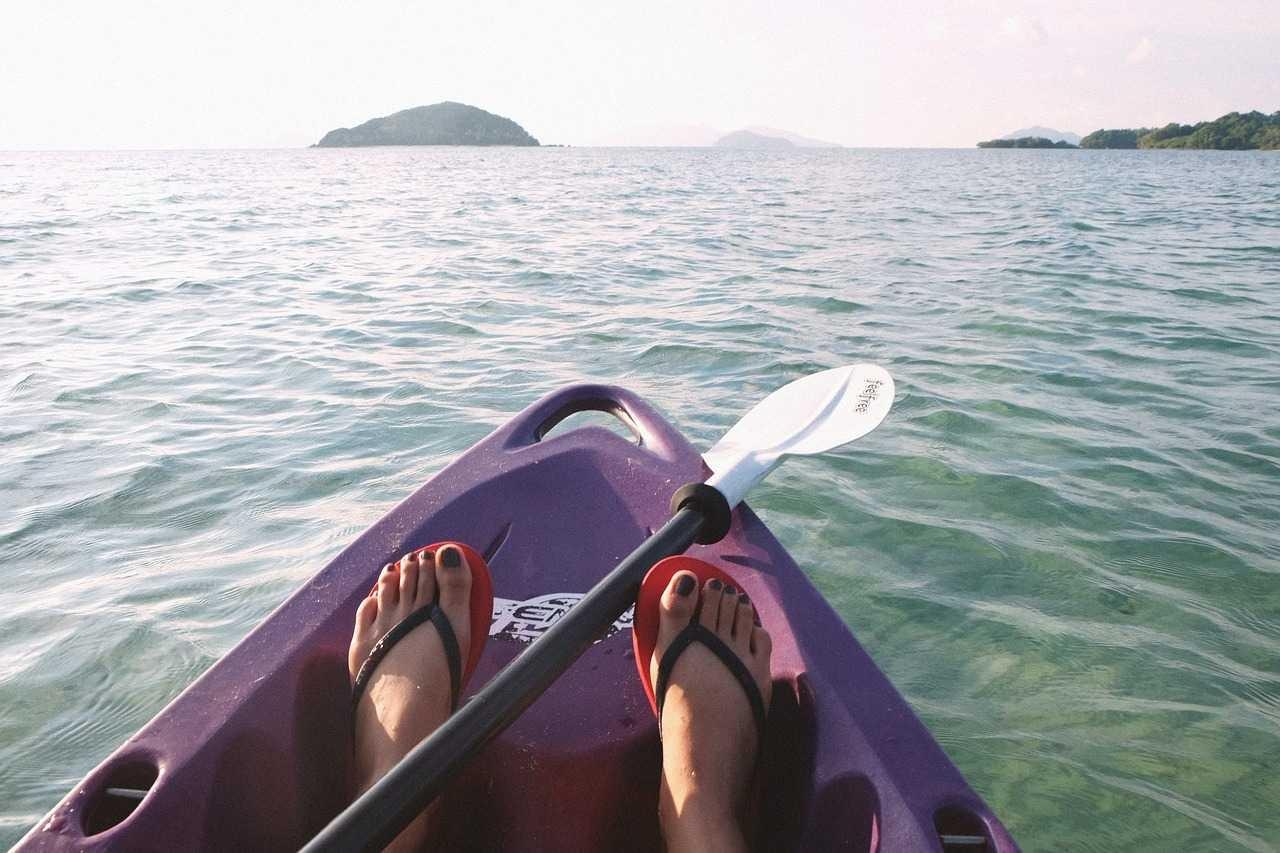kayak: (20, 364, 1017, 843), (312, 502, 795, 839)
